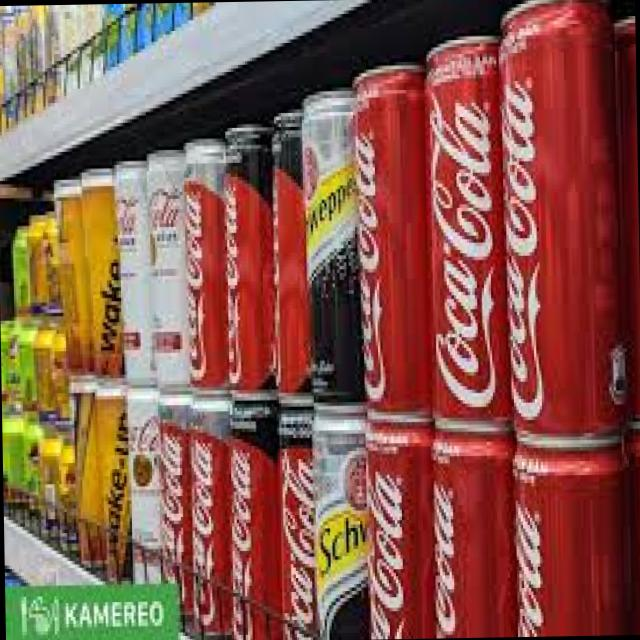cocacola: (497, 0, 631, 443), (425, 31, 514, 434), (350, 61, 432, 420), (507, 436, 633, 636), (430, 425, 516, 638), (366, 416, 436, 639)
